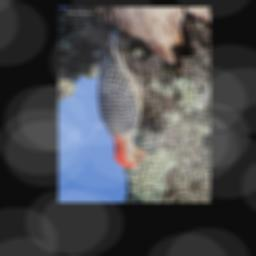Woodpecker: (94, 17, 163, 170)
